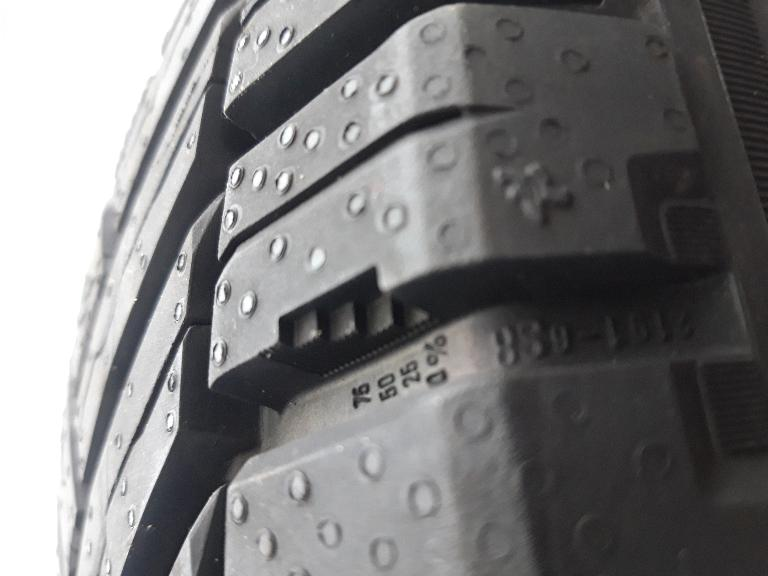temoin:100: (254, 259, 446, 386)
